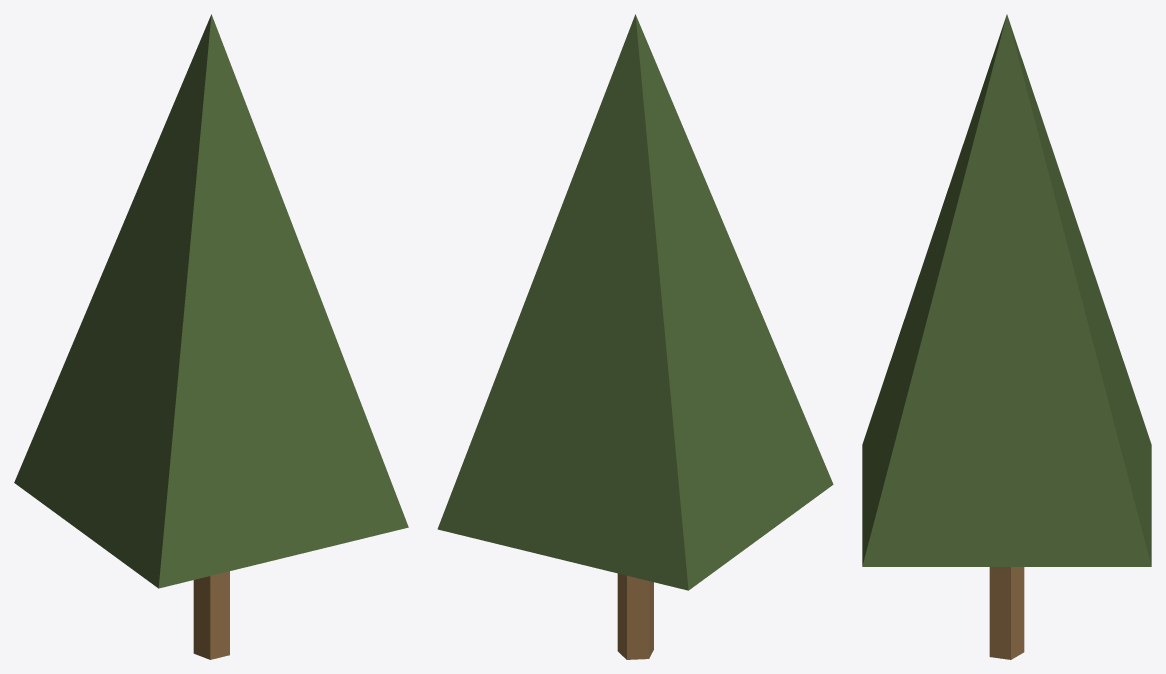
The model's file is tree_07.fbx.
The picture shows the model from 3 angles, left to right: view 1: azimuth 30°, elevation 25°; view 2: azimuth 150°, elevation 25°; view 3: azimuth 270°, elevation 25°; orthographic projection.
Visible parts, largest first — view 1: tree_07; view 2: tree_07; view 3: tree_07.
Part boxes in pixels (x1=…): tree_07: x1=14, y1=14, x2=408, y2=659; tree_07: x1=437, y1=14, x2=833, y2=659; tree_07: x1=862, y1=14, x2=1151, y2=659.
Size of the model in its own units: 198 by 482 by 198.
